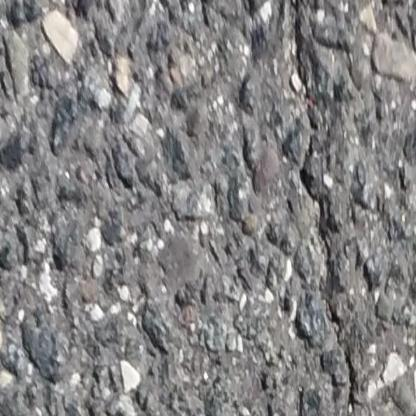Cracks: (284, 0, 347, 335), (342, 345, 367, 416)
